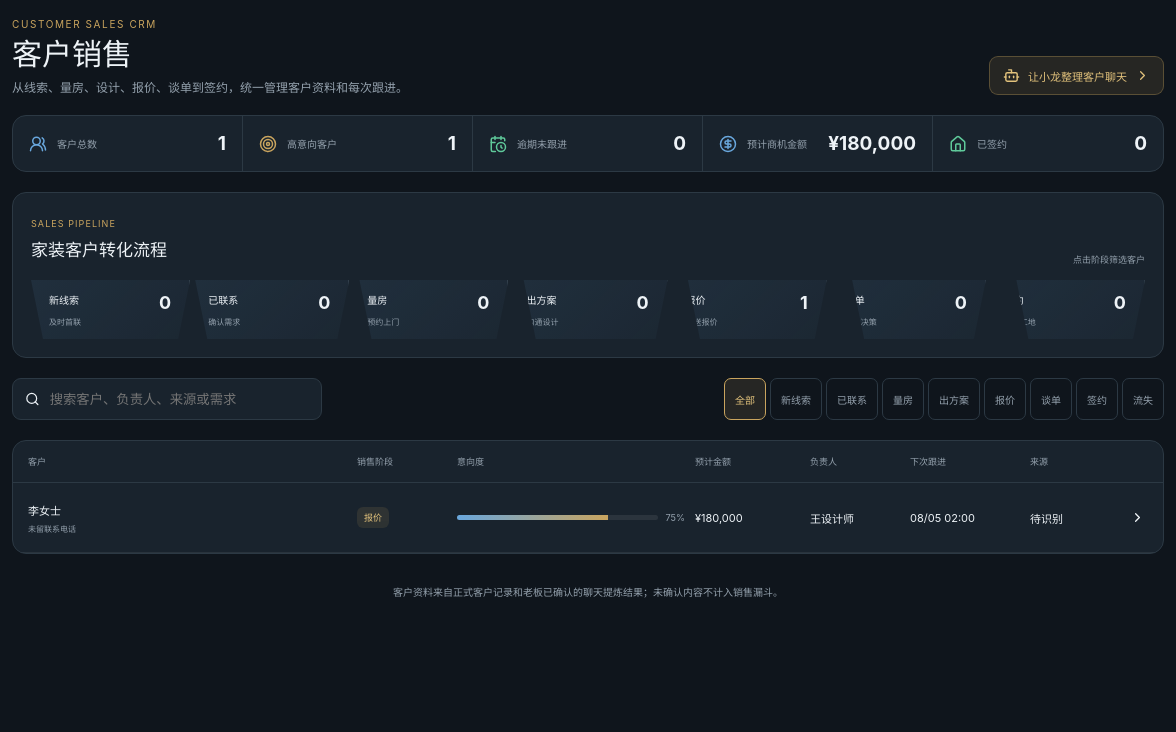
Test: CustomerManagementPage › shows the home-renovation funnel and customer 360 profile
Expected: the heading "客户销售" is shown, x1=12 y1=38 x2=132 y2=71
Expected: the element named "销售转化漏斗" is shown, x1=12 y1=192 x2=1164 y2=358
Click the row "李女士 未留联系电话 报价 75% ¥180,000 王设计师 08/05 02:00 待识别" at (588, 518), box x1=13 y1=483 x2=1163 y2=553
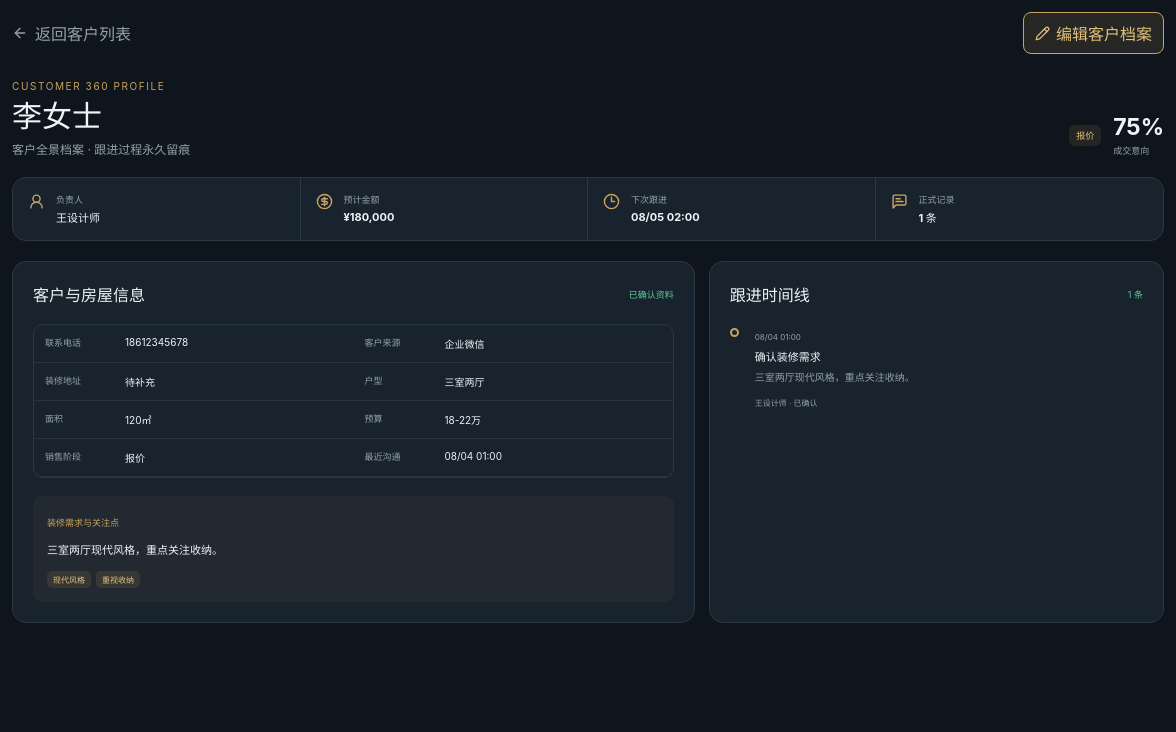
Expected: the heading "李女士" is shown, x1=12 y1=100 x2=102 y2=133
Expected: the heading "客户与房屋信息" is shown, x1=33 y1=282 x2=145 y2=306
Expected: the text "三室两厅现代风格，重点关注收纳。" below "装修需求与关注点" is shown, x1=47 y1=543 x2=223 y2=557
